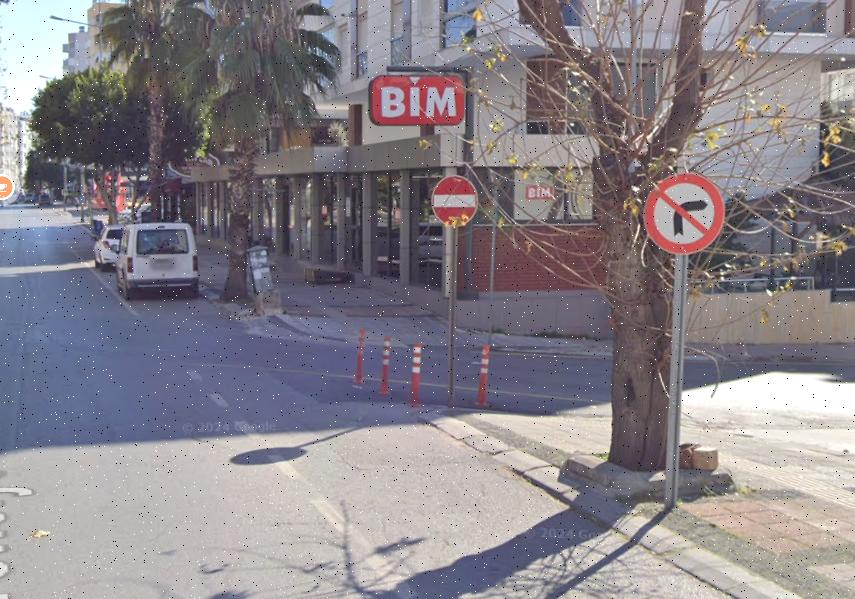rightturnsareforbidden: (641, 171, 727, 255)
